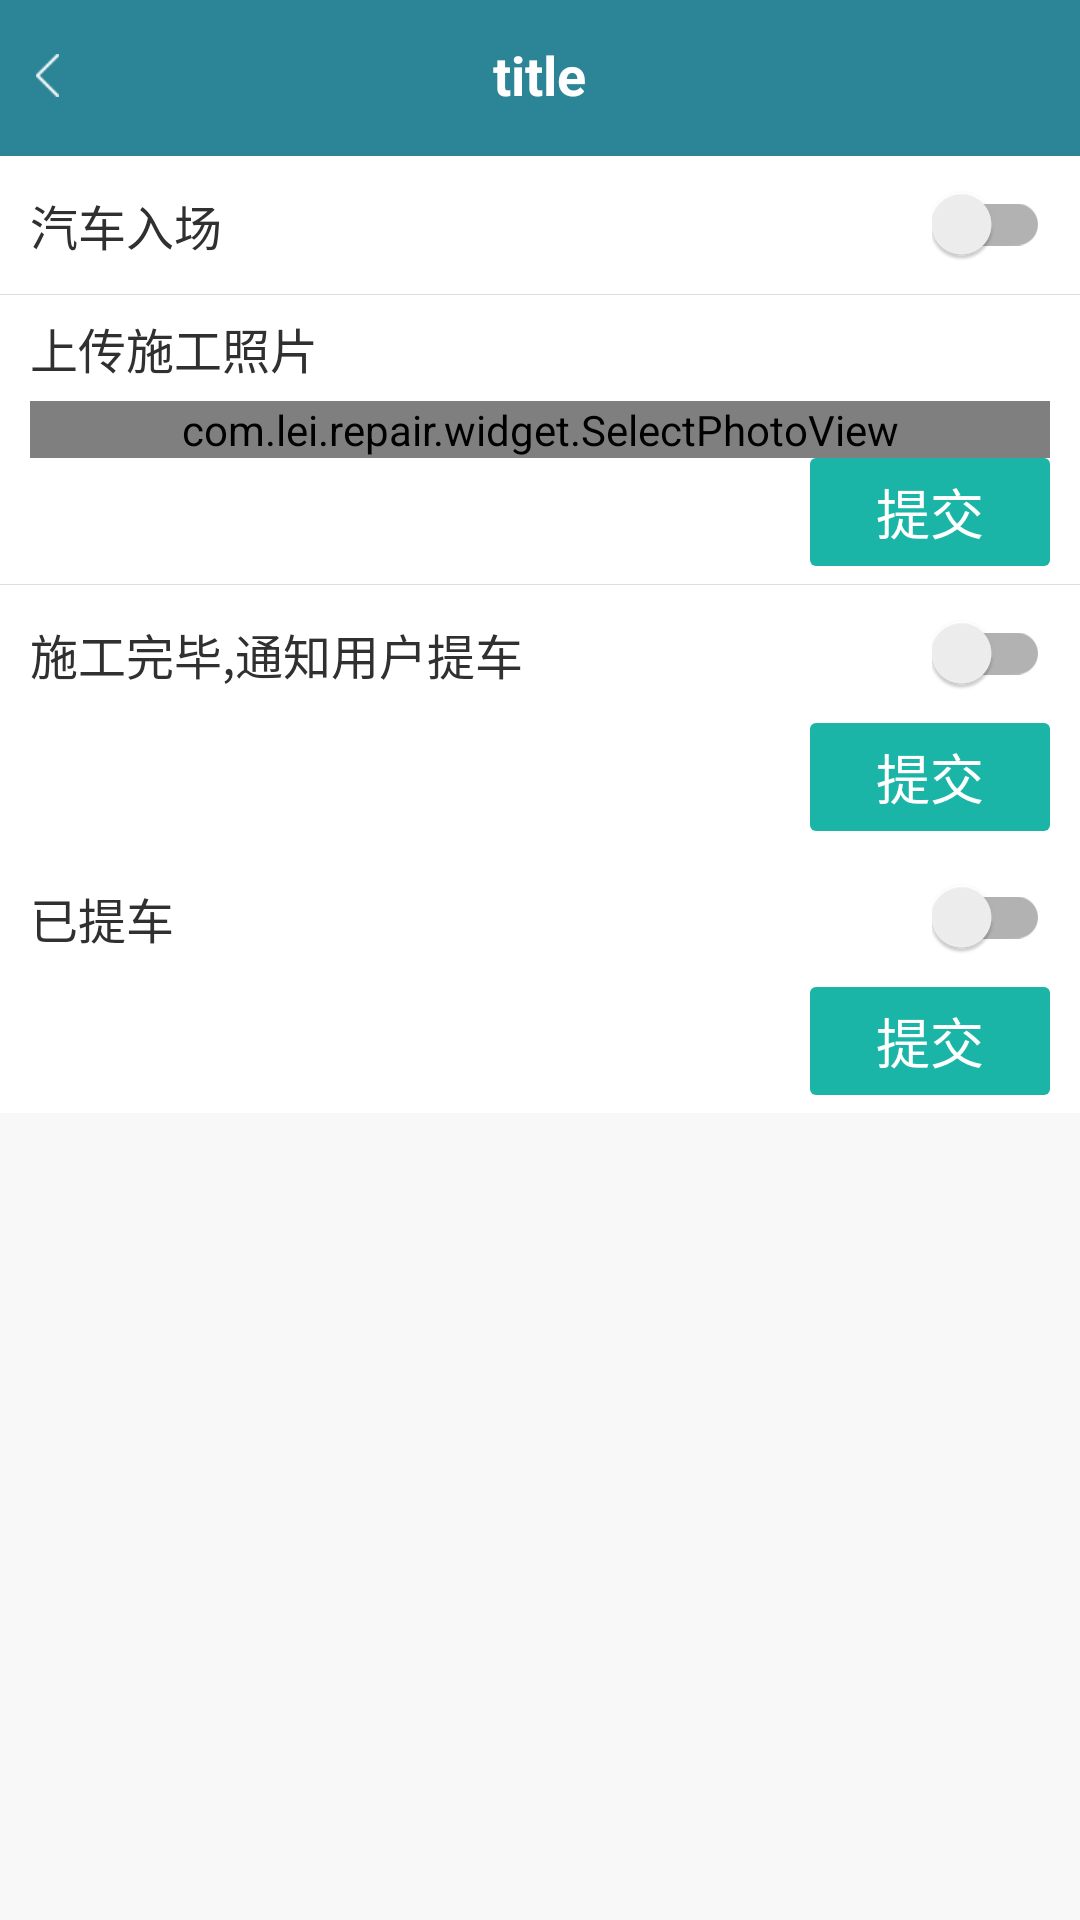

Screen size 1080 x 1920. Icon name, then its box in pixels as (x1, y1, x2, y2):
re baclk: (36, 54, 59, 97)
